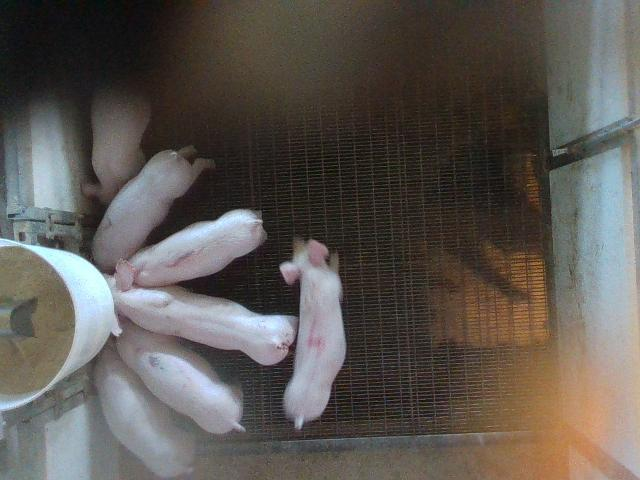pig-1: (129, 209, 266, 287)
pig-4: (279, 239, 346, 429)
